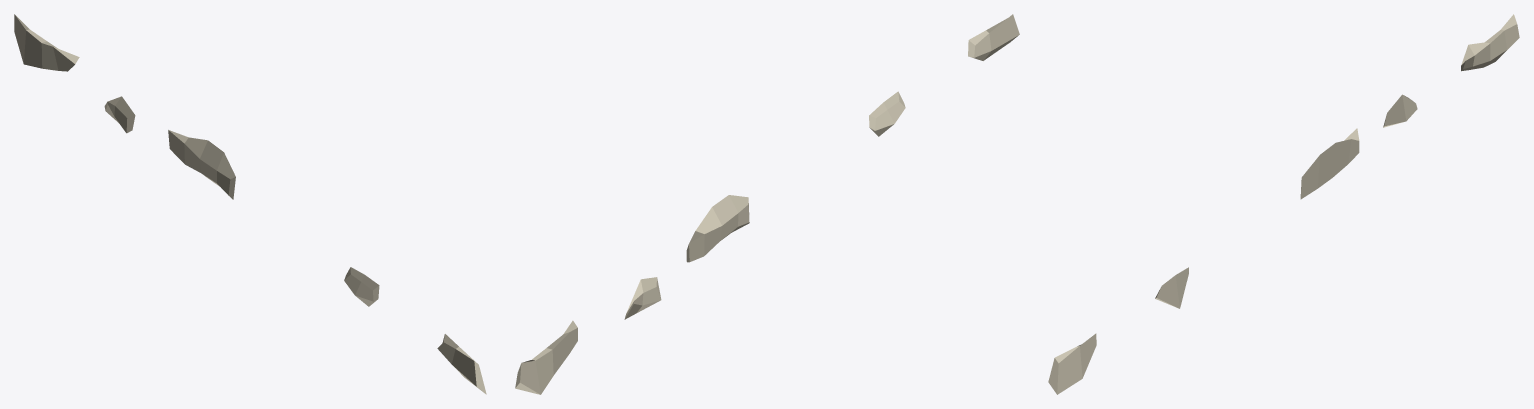
The model's file is white_sauce.fbx.
The picture shows the model from 3 angles, left to right: view 1: azimuth 30°, elevation 25°; view 2: azimuth 150°, elevation 25°; view 3: azimuth 330°, elevation 25°; orthographic projection. The views are drawn at different scales.
Parts seen in each view (by area): view 1: Sauce; view 2: Sauce; view 3: Sauce.
Part boxes in pixels (x1=…): Sauce: x1=14, y1=14, x2=486, y2=394; Sauce: x1=515, y1=14, x2=1019, y2=394; Sauce: x1=1048, y1=14, x2=1519, y2=394.
Size of the model in its own units: 1.21 by 3.14 by 52.3.
